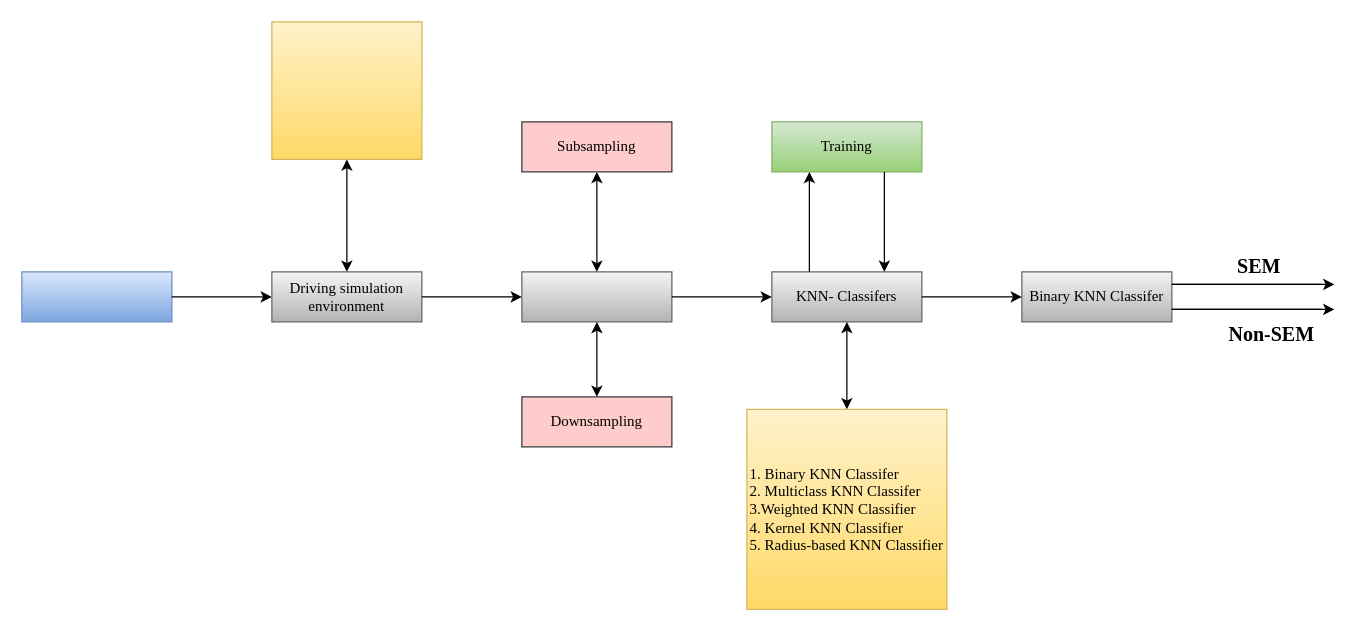
Image size: 1366x631. Some labels were removed from this diagram. Here are the shapes that lost their labels. From the top down, the box of each, then its label:
(271, 21, 422, 159): Window data 1 Window data 2 Window data 3 . . Window data n
(21, 271, 172, 322): EDM
(521, 271, 672, 322): Raw Data
